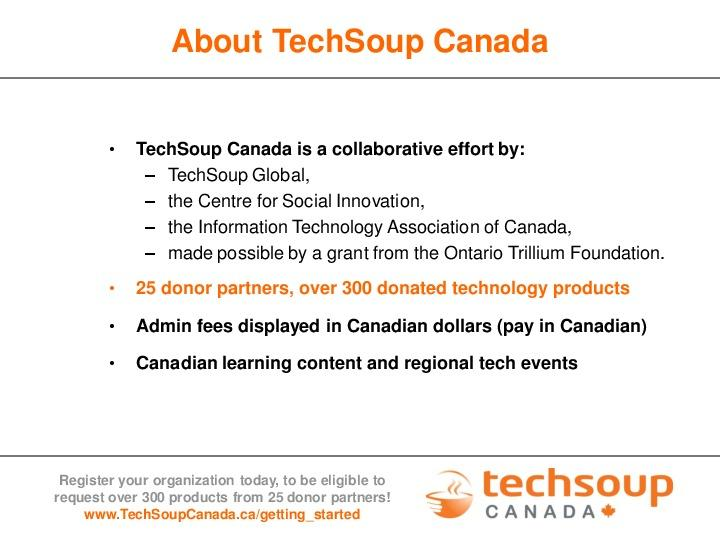paragraph: (90, 126, 683, 400)
subtitle: (40, 469, 400, 539)
title: (165, 17, 560, 66)
